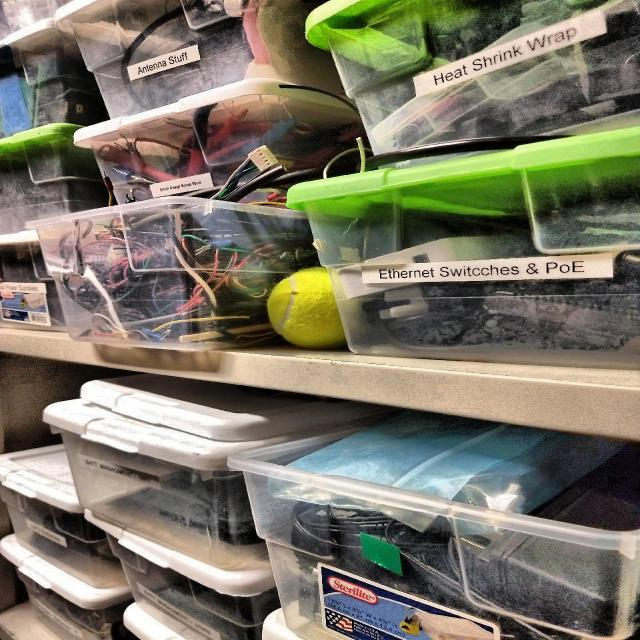tennis-ball: (266, 263, 366, 351)
